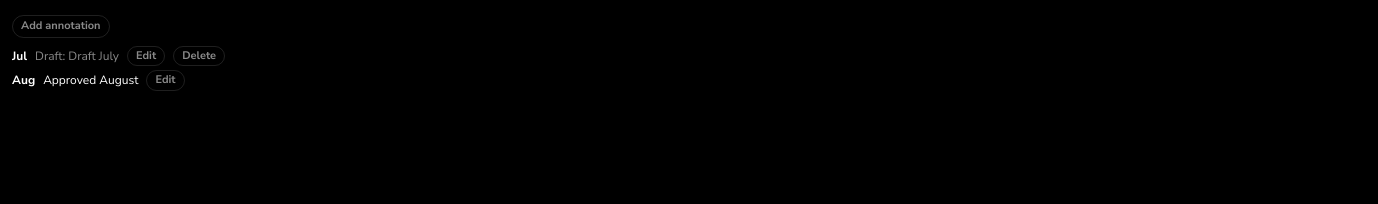
Test case: Save draft waits for a month and some text
The width and height of the screenshot is (1378, 204).
Click the button "Add annotation" at x=61, y=26, box [12,15,110,38]
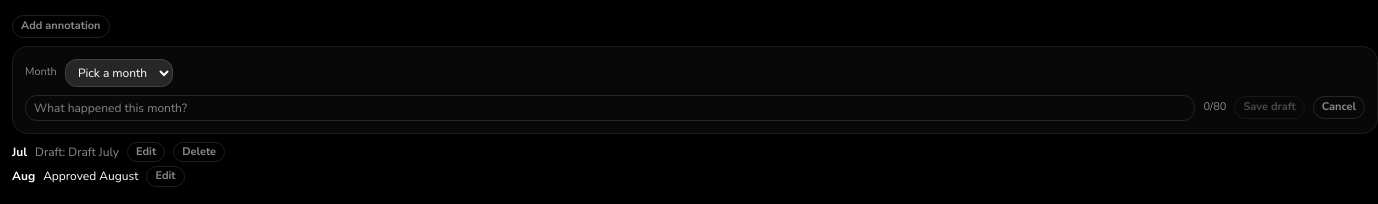
expect the button "Save draft" is disabled: met, box [1234,96,1305,119]
Select "Sep" in the dropdown labelled "Month" at x=119, y=72, box [65,58,173,86]
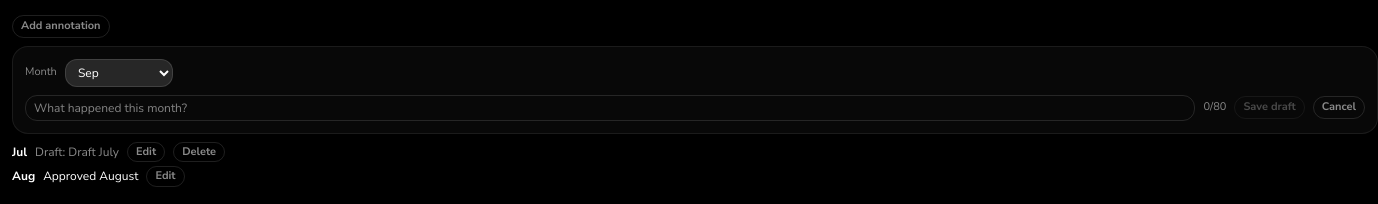
expect the button "Save draft" is disabled: met, box [1234,96,1305,119]
Type "x" into the field named "Note text" at x=610, y=108, box [25,94,1196,120]
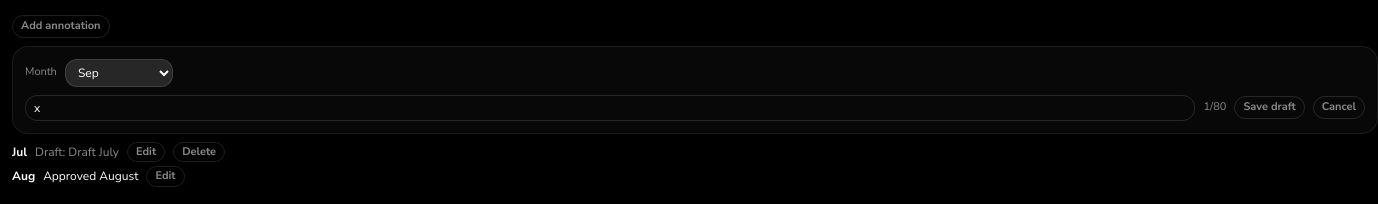
expect the button "Save draft" is enabled: met, box [1234,96,1305,119]
